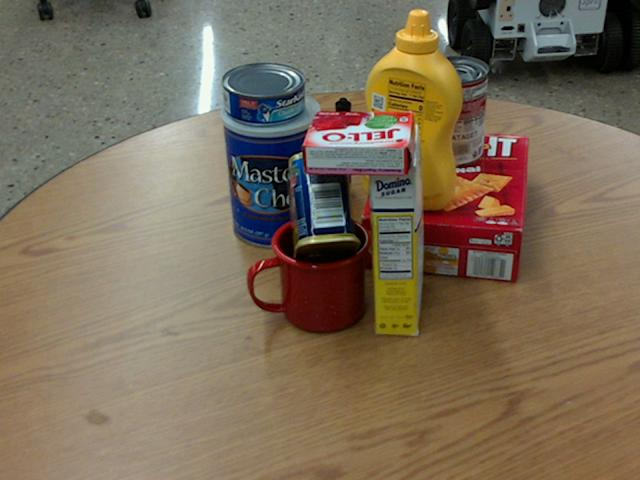cracker_box: (359, 126, 527, 281)
gelatin_box: (300, 109, 416, 175)
large_marker: (334, 99, 351, 198)
master_chef_can: (221, 87, 323, 246)
mug: (243, 214, 367, 333)
mustard_bottle: (362, 9, 463, 209)
potted_meat_can: (286, 150, 360, 269)
sugar_box: (368, 123, 420, 335)
tomato_soup_can: (423, 55, 487, 165)
tuna_fish_can: (221, 61, 305, 123)
